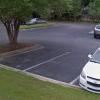Tree: (4, 0, 91, 41)
